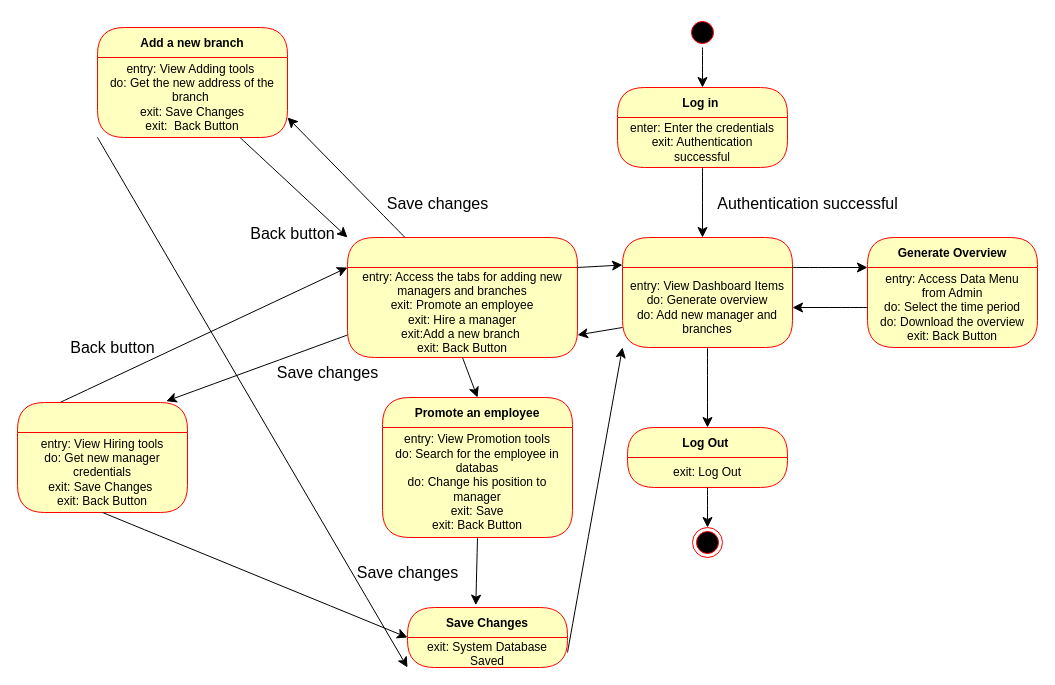
The diagram is 1055 pixels wide and 685 high, and some of its shapes have lost their labels. The shapes that lost their labels are listed below. From the top down, each one's box as (x1, y1, x2, y2) in pixels, then its label:
(346, 236, 578, 358): Add New Manager and branches
(622, 236, 792, 348): Main Menu
(16, 402, 188, 512): Hire a manager
